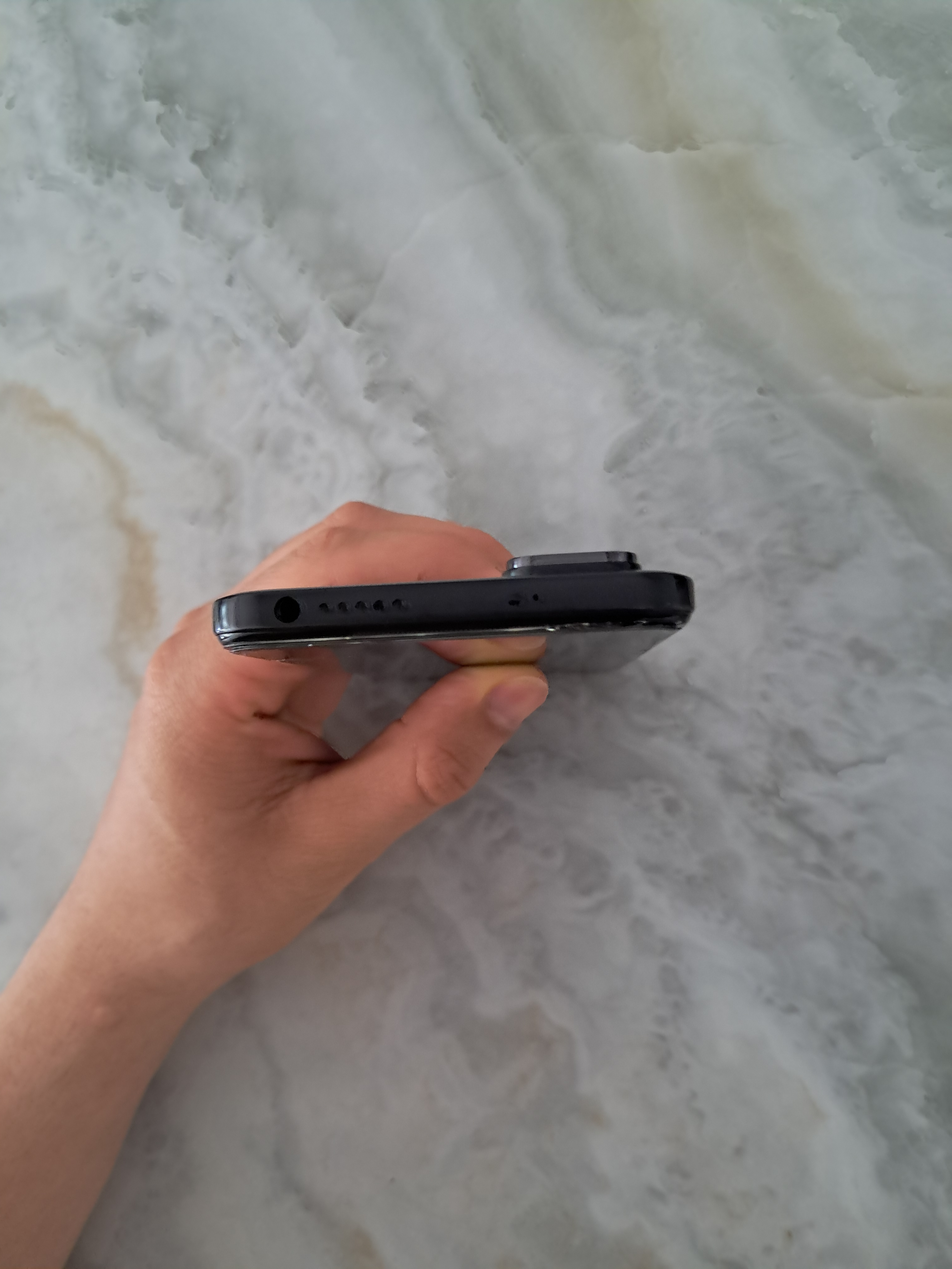phone: (212, 551, 694, 668)
